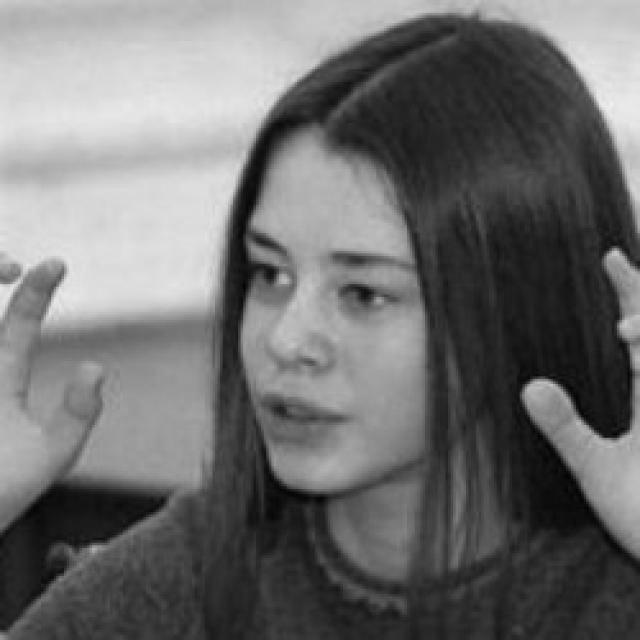real: (238, 136, 444, 496), (247, 250, 413, 331)
